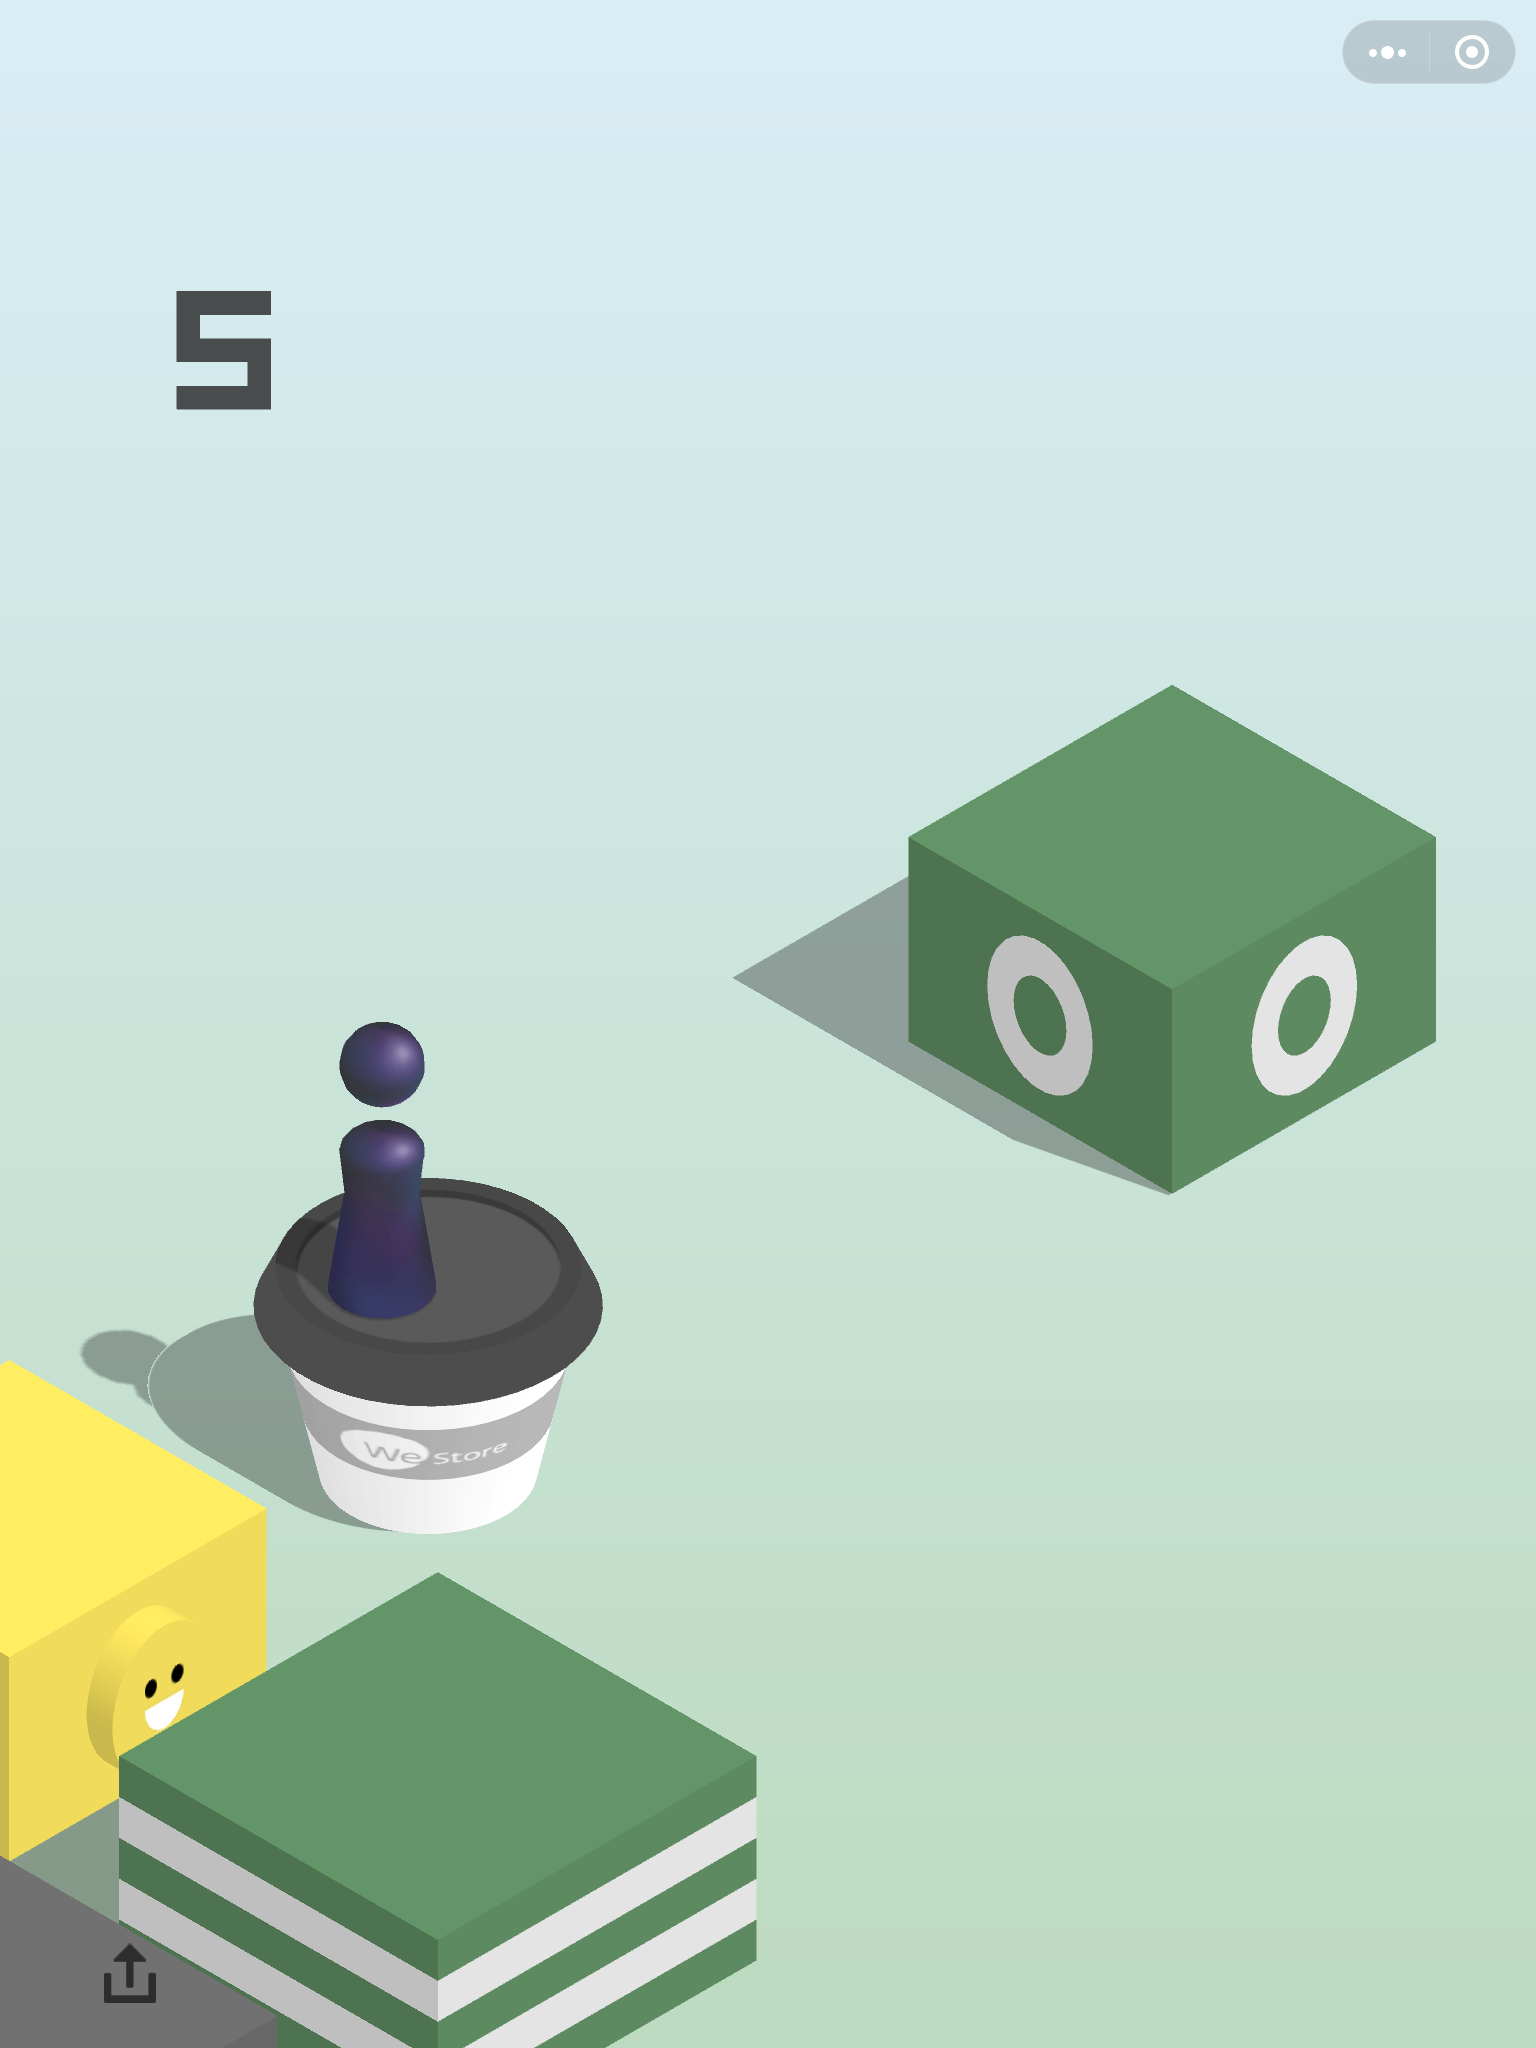c: (248, 1166, 610, 1543)
f: (115, 1566, 760, 2048), (904, 676, 1447, 1197), (2, 1348, 269, 1859)
r: (324, 1013, 445, 1330)
